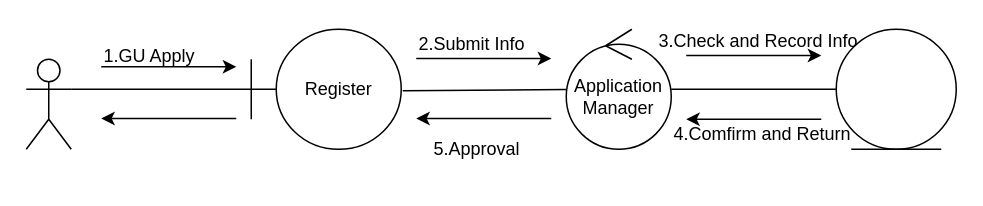
The diagram is 983 pixels wide and 206 high, and some of its shapes have lost their labels. Each missing label, with the centre of its shape:
Account DB: the point at 895,88
GU: the point at 48,103
